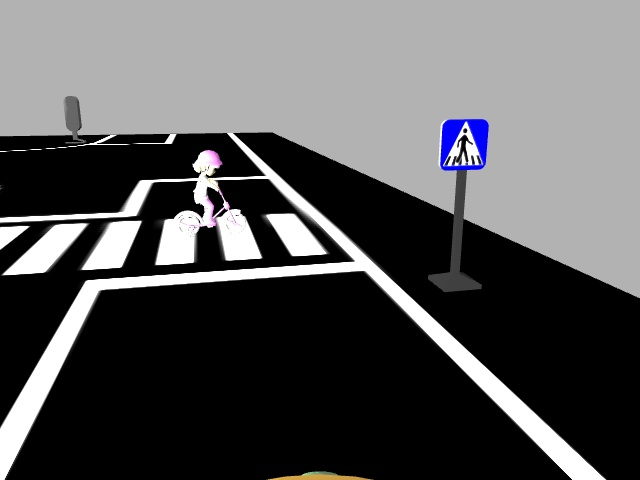Crosswalk: (430, 107, 497, 172)
Pedestrian: (178, 151, 250, 236)
